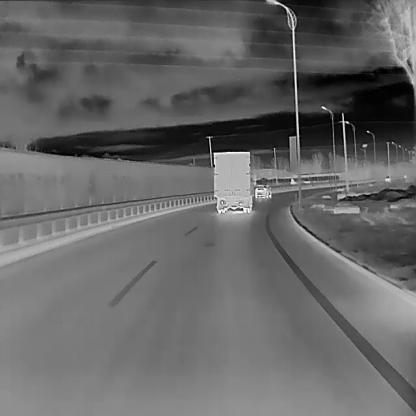car: (254, 182, 272, 197), (384, 174, 391, 181)
truck: (212, 149, 256, 213)
